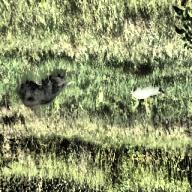boar: (17, 70, 72, 108)
